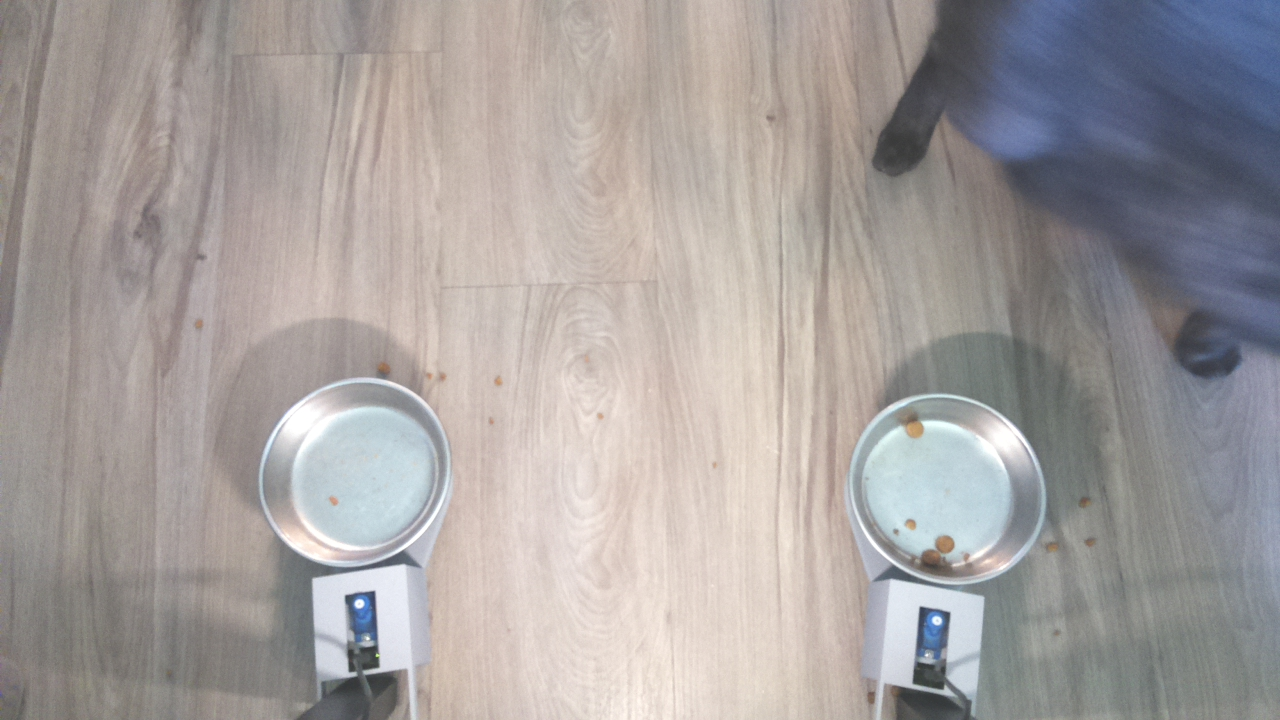open_bowl: (844, 387, 1058, 592), (255, 372, 463, 579)
